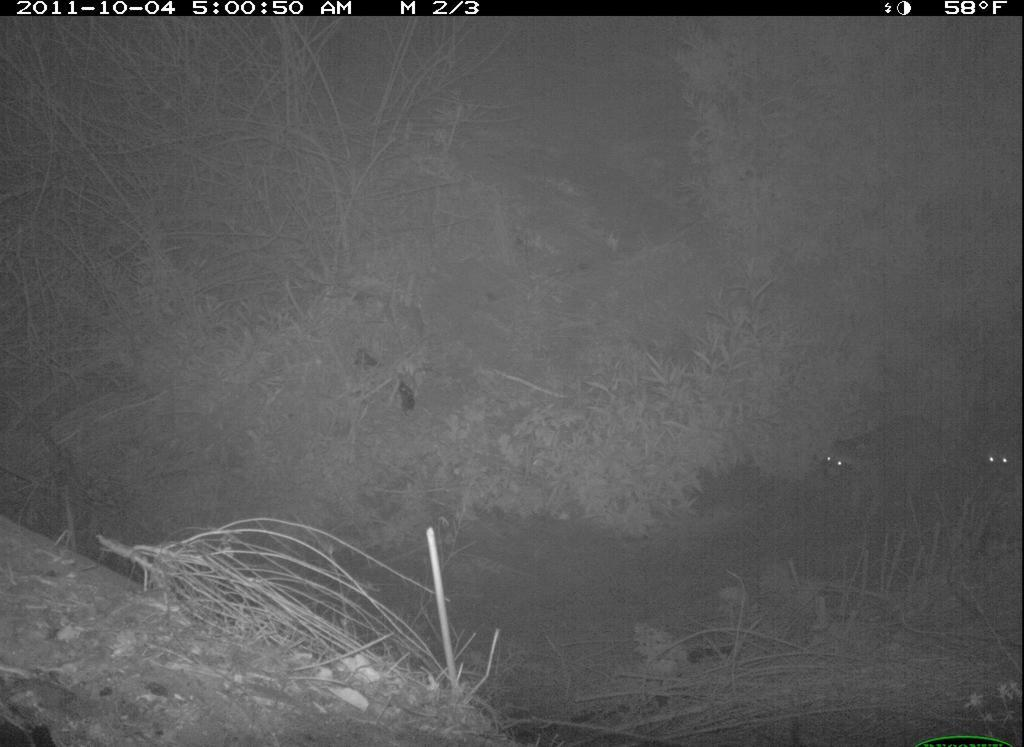raccoon: (808, 417, 953, 513), (971, 427, 1023, 507)
